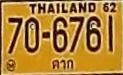0: (24, 17, 38, 52)
1: (108, 15, 112, 51)
6: (86, 15, 102, 54), (52, 16, 67, 52)
7: (69, 16, 84, 52), (8, 17, 22, 53)
TAK: (50, 58, 75, 70)
